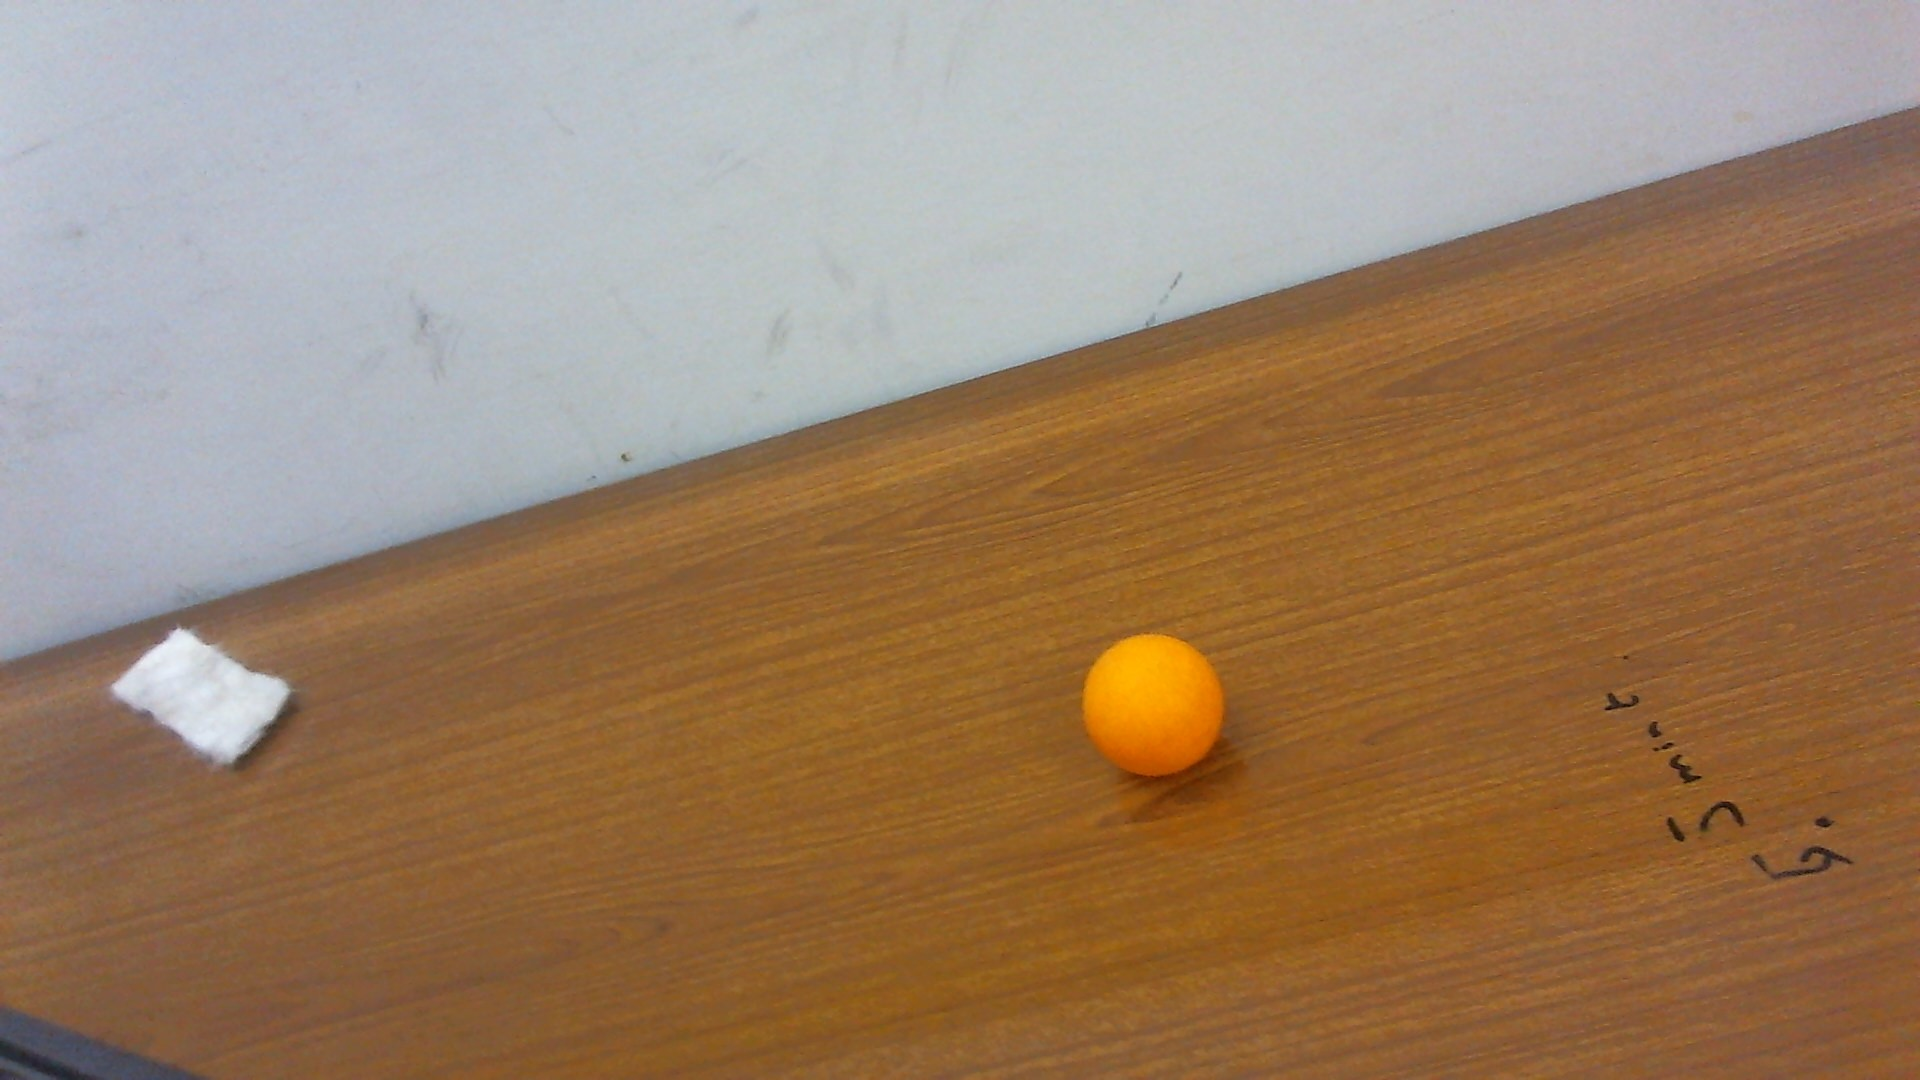ball: (1081, 632, 1229, 779)
